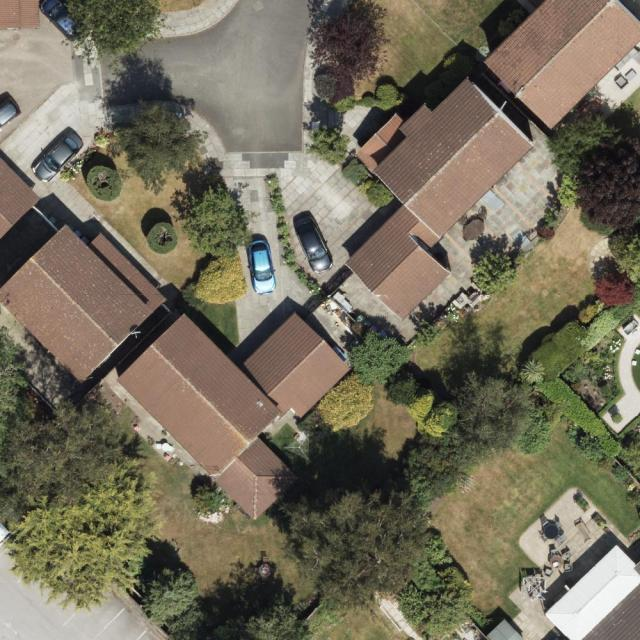roof: (116, 310, 354, 524), (346, 80, 537, 322), (0, 222, 169, 386), (488, 0, 640, 132), (544, 543, 640, 640), (0, 153, 39, 240), (0, 0, 40, 29)
